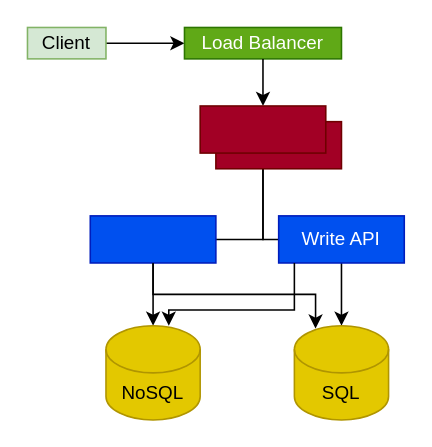
Image size: 432x447. Some labels were removed from this diagram. The centre of each missing label's shape, as x and y in pixels:
"Read API" belongs at [152,238].
"WebServer" belongs at [262,128].
